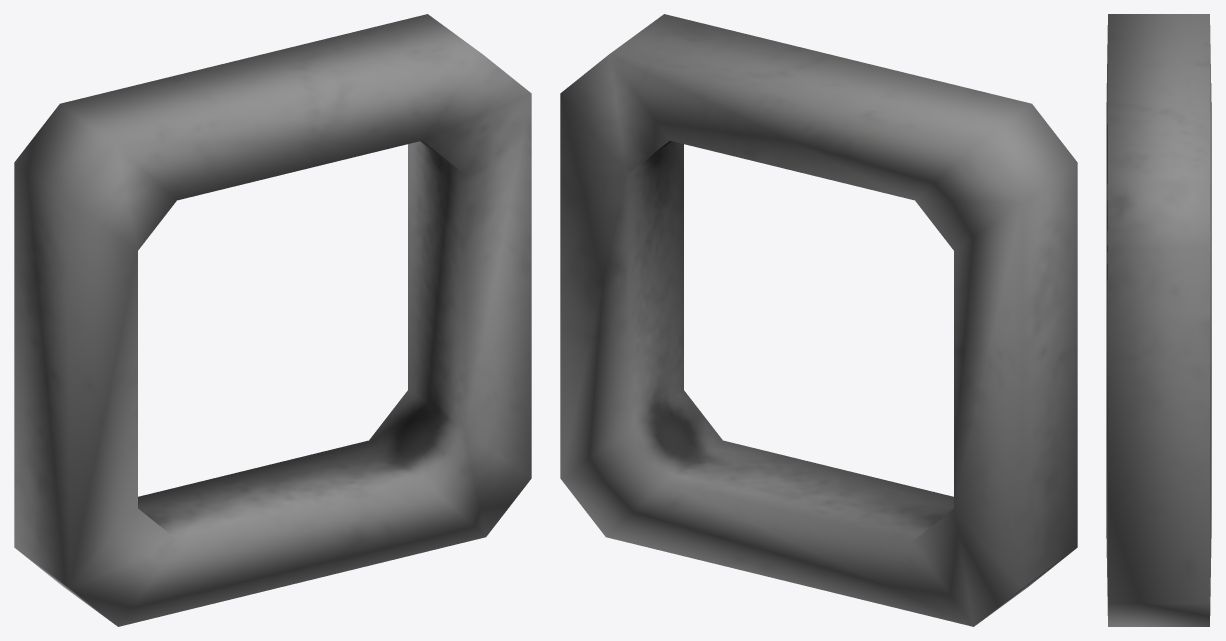
File: Buckle_Square.fbx
The picture shows the model from 3 angles, left to right: view 1: azimuth 30°, elevation 25°; view 2: azimuth 150°, elevation 25°; view 3: azimuth 270°, elevation 25°; orthographic projection. The views are drawn at different scales.
Parts seen in each view (by area): view 1: Buckle_Square_LOD0; view 2: Buckle_Square_LOD0; view 3: Buckle_Square_LOD0.
Boxes of the visible parts, x1=… form: Buckle_Square_LOD0: x1=14, y1=14, x2=531, y2=626; Buckle_Square_LOD0: x1=560, y1=14, x2=1077, y2=626; Buckle_Square_LOD0: x1=1106, y1=14, x2=1211, y2=626.
Size of what is drawn, in the model's own units: 19.62 by 19.62 by 4.19.
